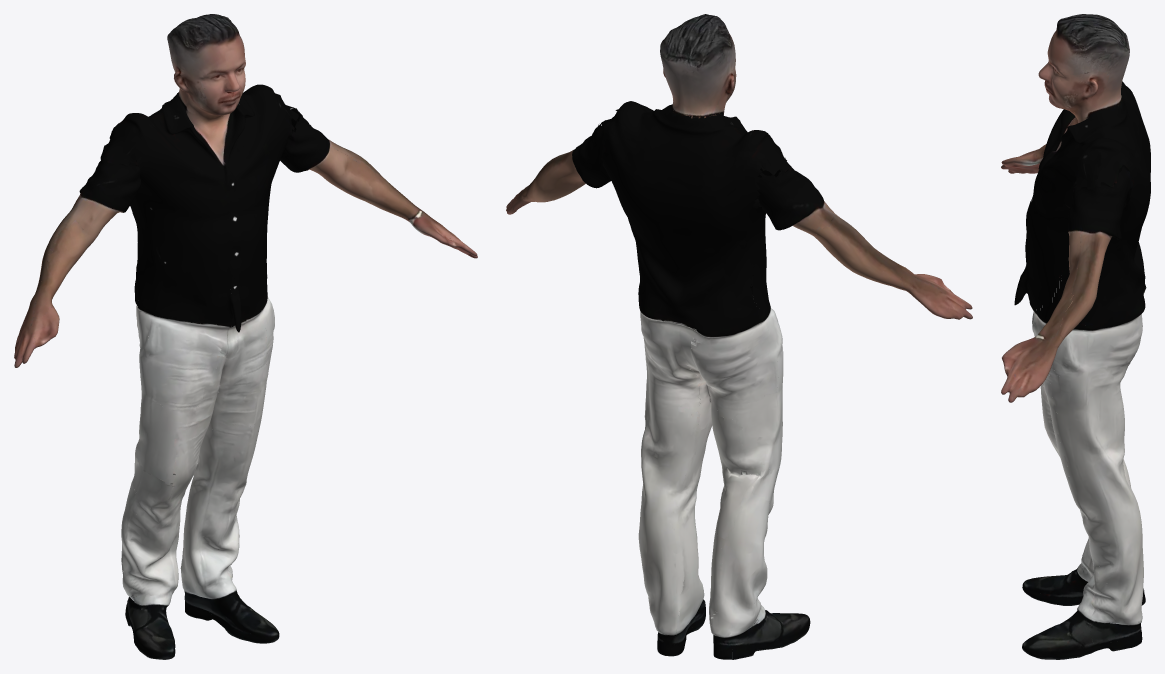
3 views of the same model, side by side, from view 1: azimuth 30°, elevation 25°; view 2: azimuth 150°, elevation 25°; view 3: azimuth 270°, elevation 25° (orthographic).
Parts seen in each view (by area): view 1: model; view 2: model; view 3: model.
Part boxes in pixels (x1,y1,x2,y2): model: [14, 14, 477, 659]; model: [506, 14, 972, 659]; model: [1001, 14, 1150, 659].
Size of the model in its own units: 1.48 by 1.87 by 0.41.
1 material, 1 textured.
